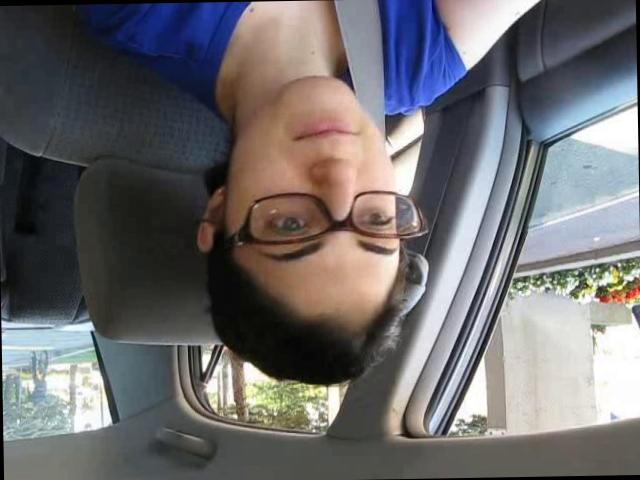eye_open: (256, 206, 319, 240), (351, 200, 400, 232)
face: (226, 70, 416, 292)
